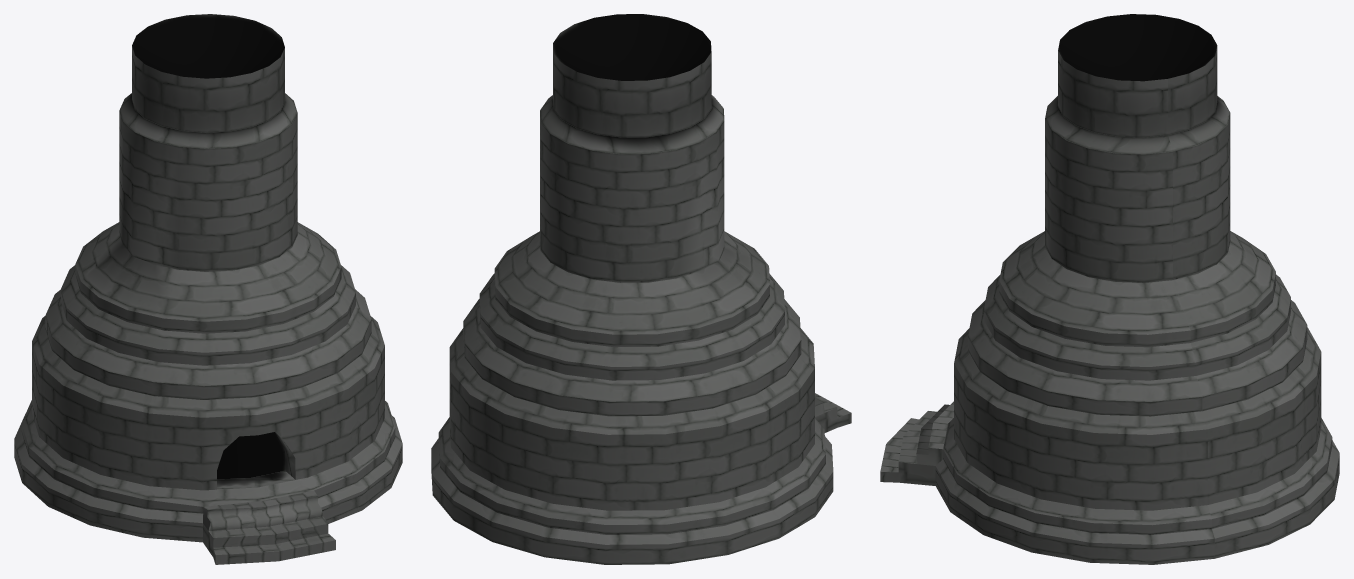
Rendered from Forge.fbx.
The picture shows the model from 3 angles, left to right: view 1: azimuth 30°, elevation 25°; view 2: azimuth 150°, elevation 25°; view 3: azimuth 270°, elevation 25°; orthographic projection. The views are drawn at different scales.
Visible parts, largest first — view 1: Forge; view 2: Forge; view 3: Forge.
Boxes of the visible parts, box(x1,y1,x2,y2) form: Forge: box(14, 14, 402, 564); Forge: box(431, 14, 851, 564); Forge: box(880, 14, 1339, 564).
Size of the model in its own units: 4.38 by 5.17 by 4.98.
